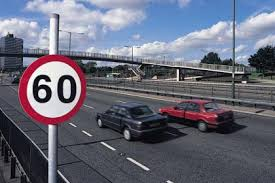Speed_limit_60km: (18, 54, 88, 124)
